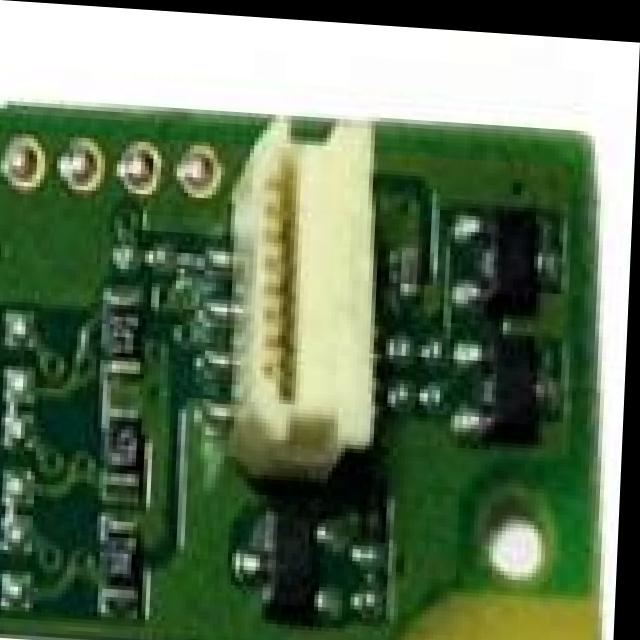connector: (233, 121, 388, 461)
resistor: (99, 282, 156, 395), (107, 406, 158, 497), (104, 514, 144, 586)
transistor: (235, 481, 354, 621), (461, 309, 556, 448), (466, 181, 557, 303)
